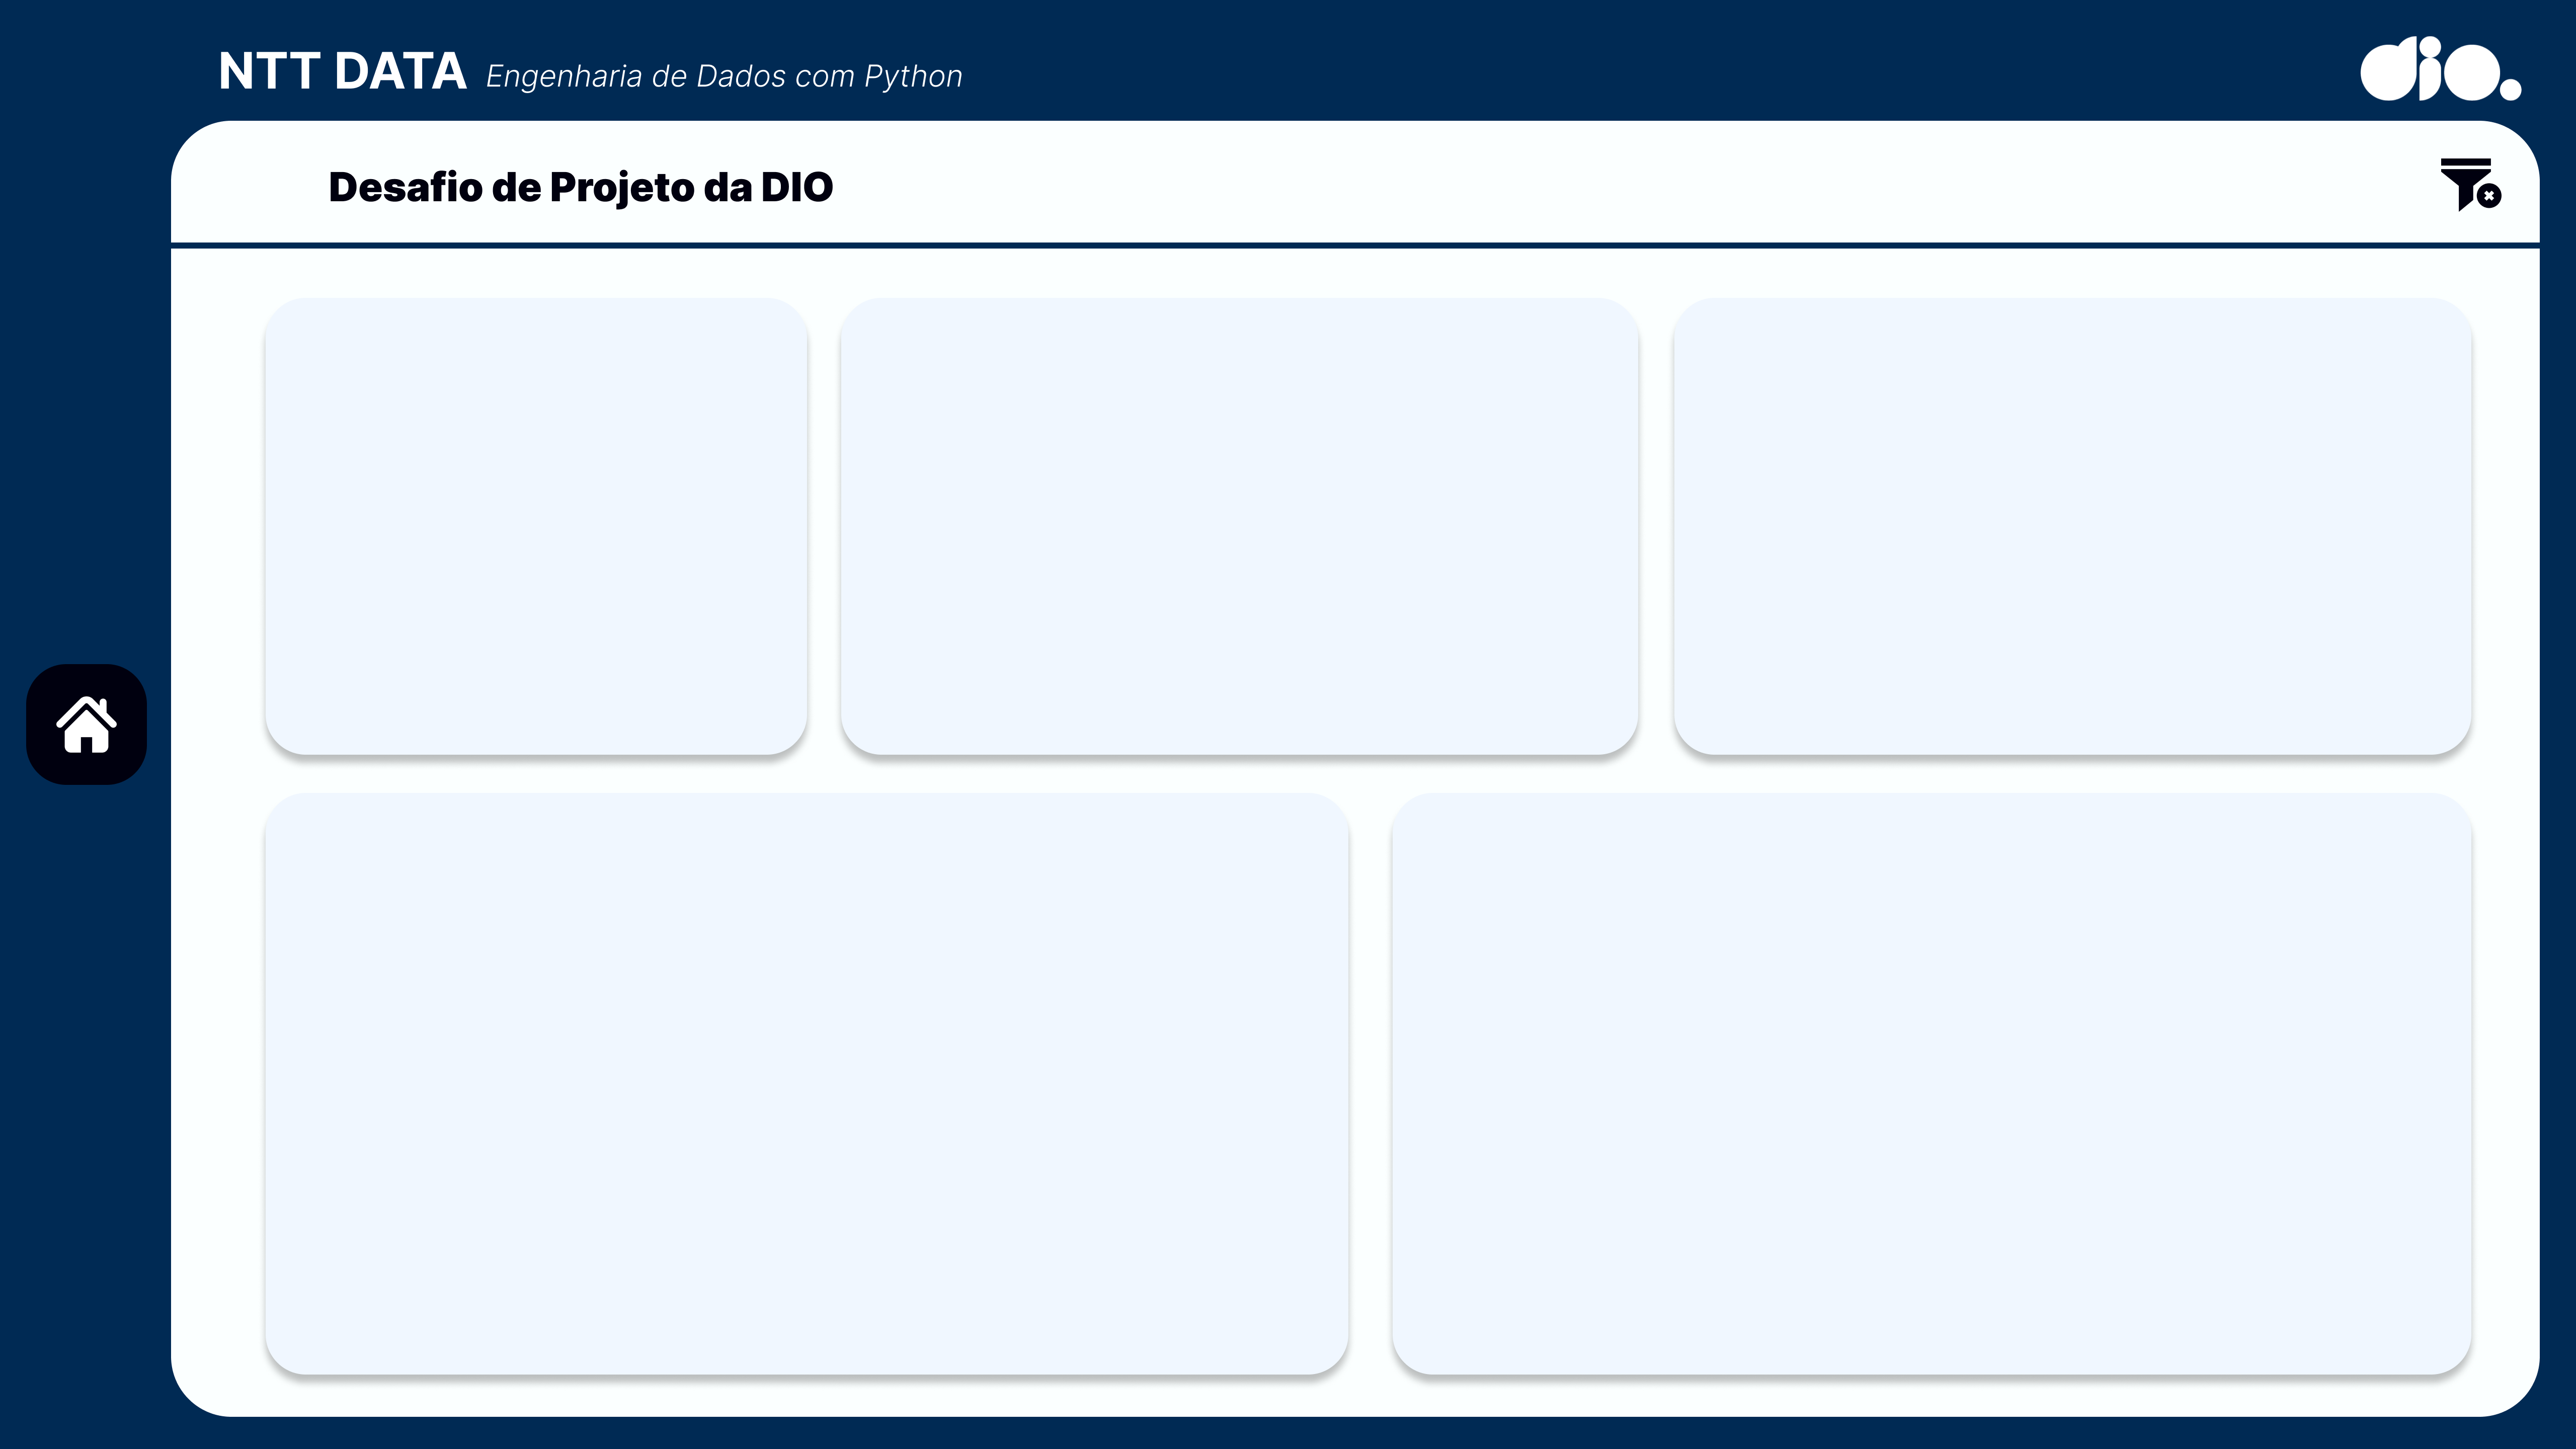

This screenshot's page, from the dashboard's own definition file:
{"tool":"powerbi","page":{"name":"Página 1","canvas":[1280,720],"ordinal":0},"visuals":[{"type":"donutChart","title":"Products x Location","fields":{"Y":["CountNonNull(azure_company project.Product_name)"],"Category":["azure_company project.Product_location"]},"box":[423.1,154.7,388.1,211.1],"z":5000},{"type":"treemap","title":"Employee x Department","fields":{"Group":["azure_company employee.Full_name"],"Values":["CountNonNull(Base_departament.Departament_name)"]},"box":[839.4,157.6,380.3,208.1],"z":6000},{"type":"columnChart","title":"Average Salary","fields":{"Category":["Base_employee.Full_name"],"Y":["Avg(Base_employee.Salary)"],"Series":["Base_employee.Sex"]},"box":[135.2,407.5,528.1,265.5],"z":7000},{"type":"card","fields":{"Values":["Sum(Base_works_on.Hours)"]},"box":[161.5,184.8,215,151.7],"z":8000},{"type":"map","title":"Product Count x Department","fields":{"Category":["Base_departament.azure_company.dept_locations.Dlocation","Base_project.Product_location"],"Series":["Base_departament.Departament_name"]},"box":[698.4,407.5,521.3,265.5],"z":9000},{"type":"image","box":[1209.2,74.6,33.8,28.5],"z":9001}]}

Visuals, with their boxes on the page's 1280x720 design canvas (x1, y1, x2, y2). These are canvas units, not pixel positions in the 2576x1449 screenshot, which may show the page scaled, cropped or inside an application window:
"Products x Location" donutChart: l=423, t=155, r=811, b=366
"Employee x Department" treemap: l=839, t=158, r=1220, b=366
"Average Salary" columnChart: l=135, t=408, r=663, b=673
card - Sum(Base_works_on.Hours): l=162, t=185, r=376, b=336
"Product Count x Department" map: l=698, t=408, r=1220, b=673
image: l=1209, t=75, r=1243, b=103
